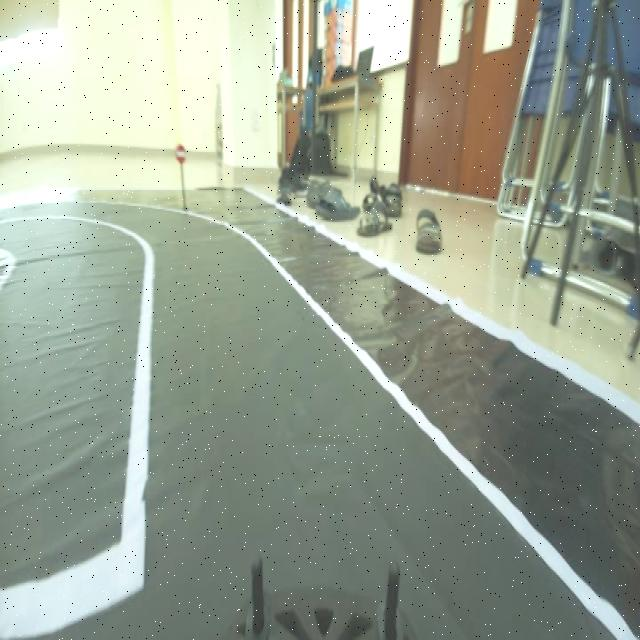no_entry: (170, 144, 192, 168)
